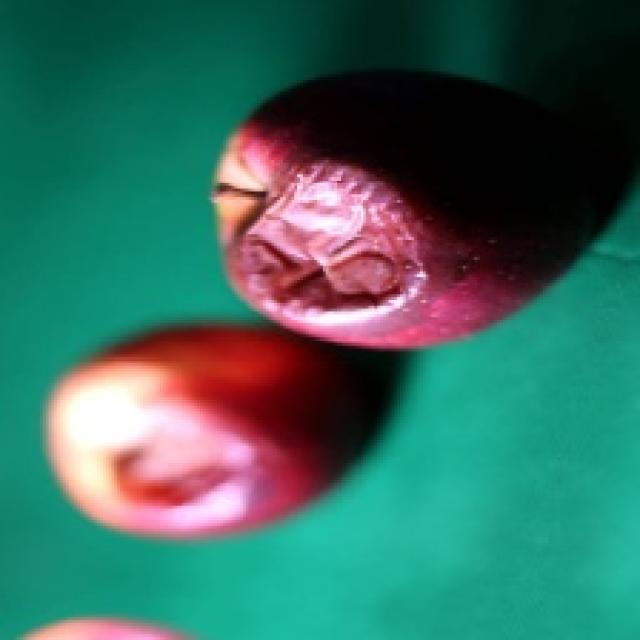rotten_apple: (220, 80, 596, 342)
